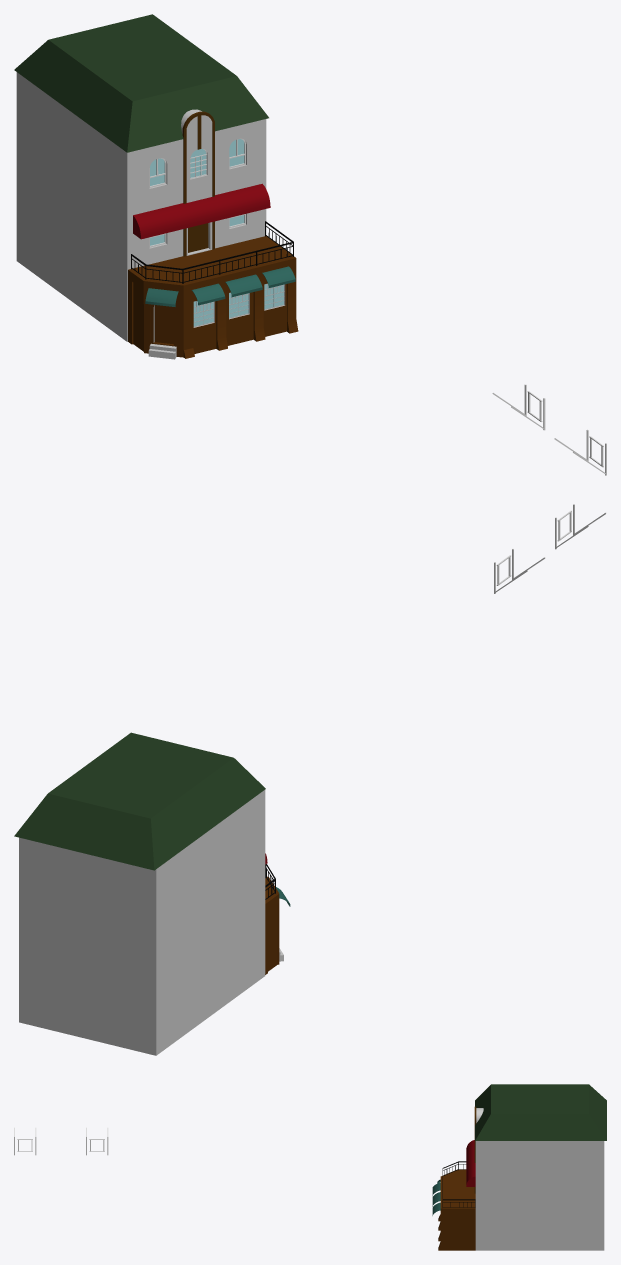
File: House 2.fbx
3 views of the same model, one above another, from view 1: azimuth 30°, elevation 25°; view 2: azimuth 150°, elevation 25°; view 3: azimuth 270°, elevation 25° (orthographic). The views are drawn at different scales.
Visible parts, largest first — view 1: House 2, roof, House 2.005, Plane, Plane.001, Windows, Cube.004, House 2.008, House 2.004, Cube.013, House 2.006; view 2: House 2, roof, Cube.013; view 3: House 2, roof, Plane, Cube.004, Cube.013, Plane.001.
Part boxes in pixels (left/top/right/bottom): House 2: left=16, top=72, right=295, bottom=359; roof: left=14, top=14, right=268, bottom=152; House 2.005: left=128, top=257, right=298, bottom=358; Plane: left=133, top=183, right=270, bottom=239; Plane.001: left=145, top=266, right=295, bottom=306; Windows: left=149, top=138, right=245, bottom=247; Cube.004: left=131, top=221, right=293, bottom=283; House 2.008: left=193, top=283, right=284, bottom=326; House 2.004: left=182, top=111, right=214, bottom=256; Cube.013: left=492, top=384, right=606, bottom=475; House 2.006: left=154, top=305, right=173, bottom=344; House 2: left=19, top=790, right=283, bottom=1055; roof: left=14, top=732, right=265, bottom=870; Cube.013: left=494, top=504, right=606, bottom=593; House 2: left=441, top=1108, right=604, bottom=1250; roof: left=475, top=1084, right=606, bottom=1140; Plane: left=466, top=1140, right=475, bottom=1186; Cube.004: left=442, top=1161, right=475, bottom=1207; Cube.013: left=14, top=1127, right=108, bottom=1155; Plane.001: left=432, top=1179, right=440, bottom=1215.
Size of the model in its own units: 633 by 941 by 3837.
